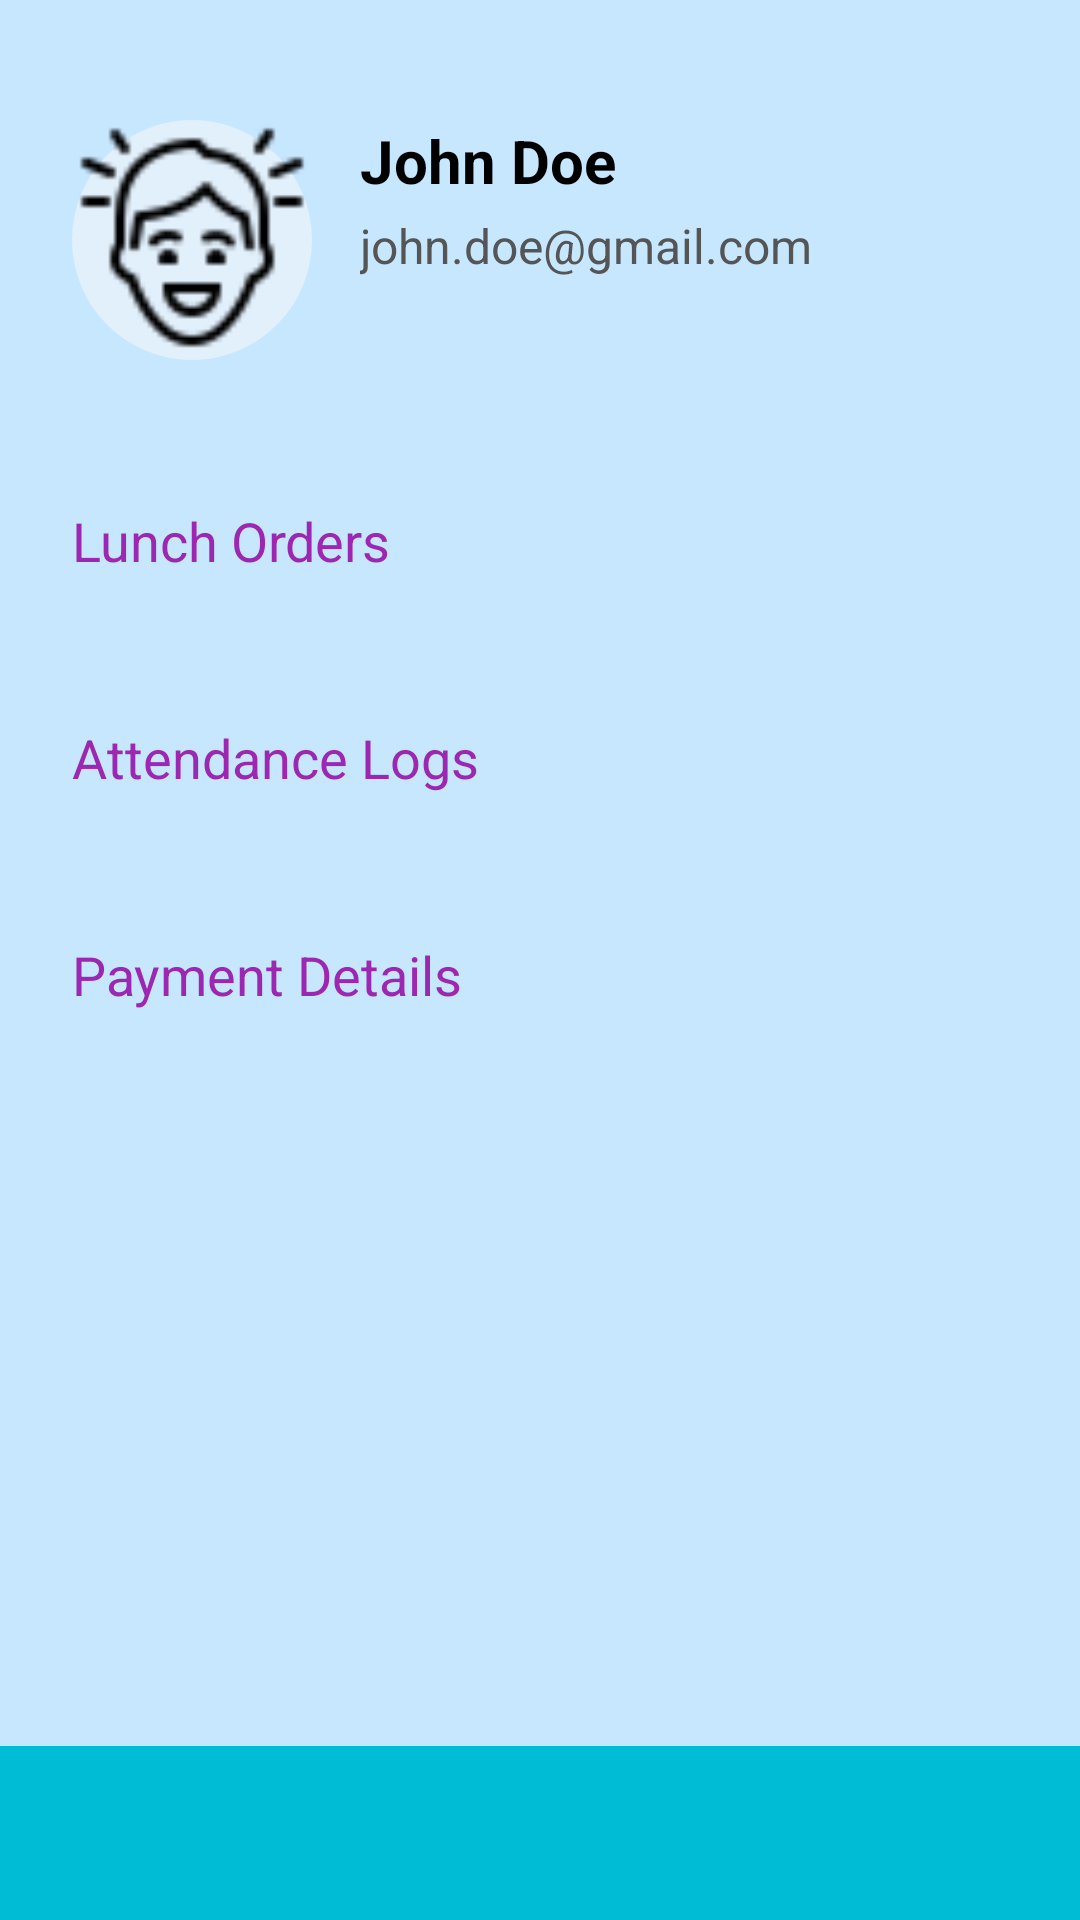

Icons on this 1080 × 1920 Android screen, each with its box as [left=x1, top=y1, right=x2, bottom=y2]:
user: [left=72, top=120, right=312, bottom=360]
